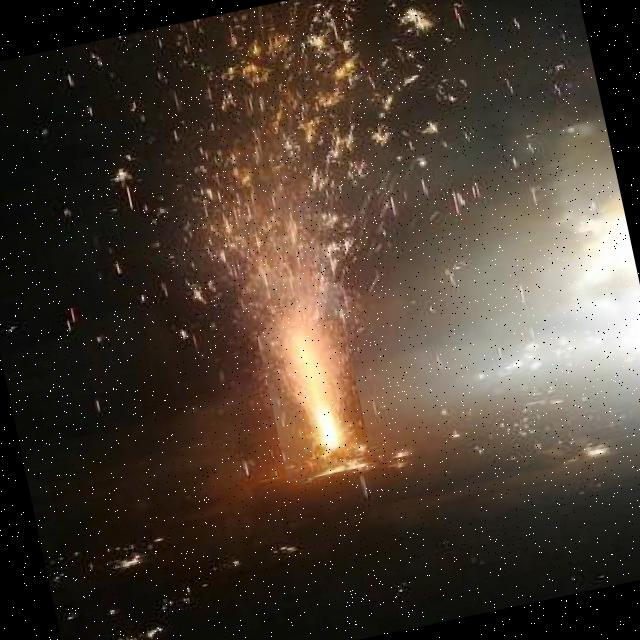fire: (257, 318, 373, 482)
